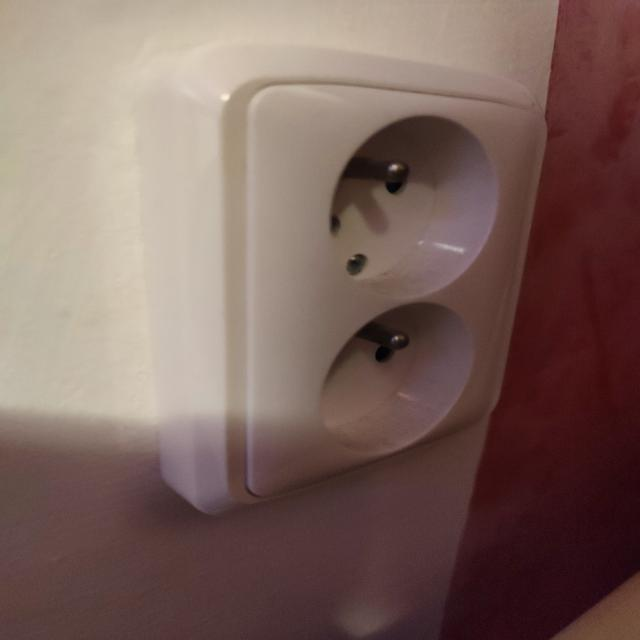house plug: (303, 97, 524, 303), (303, 297, 481, 469)
